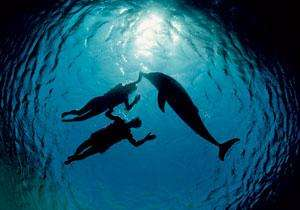dolphin: (141, 67, 245, 163)
